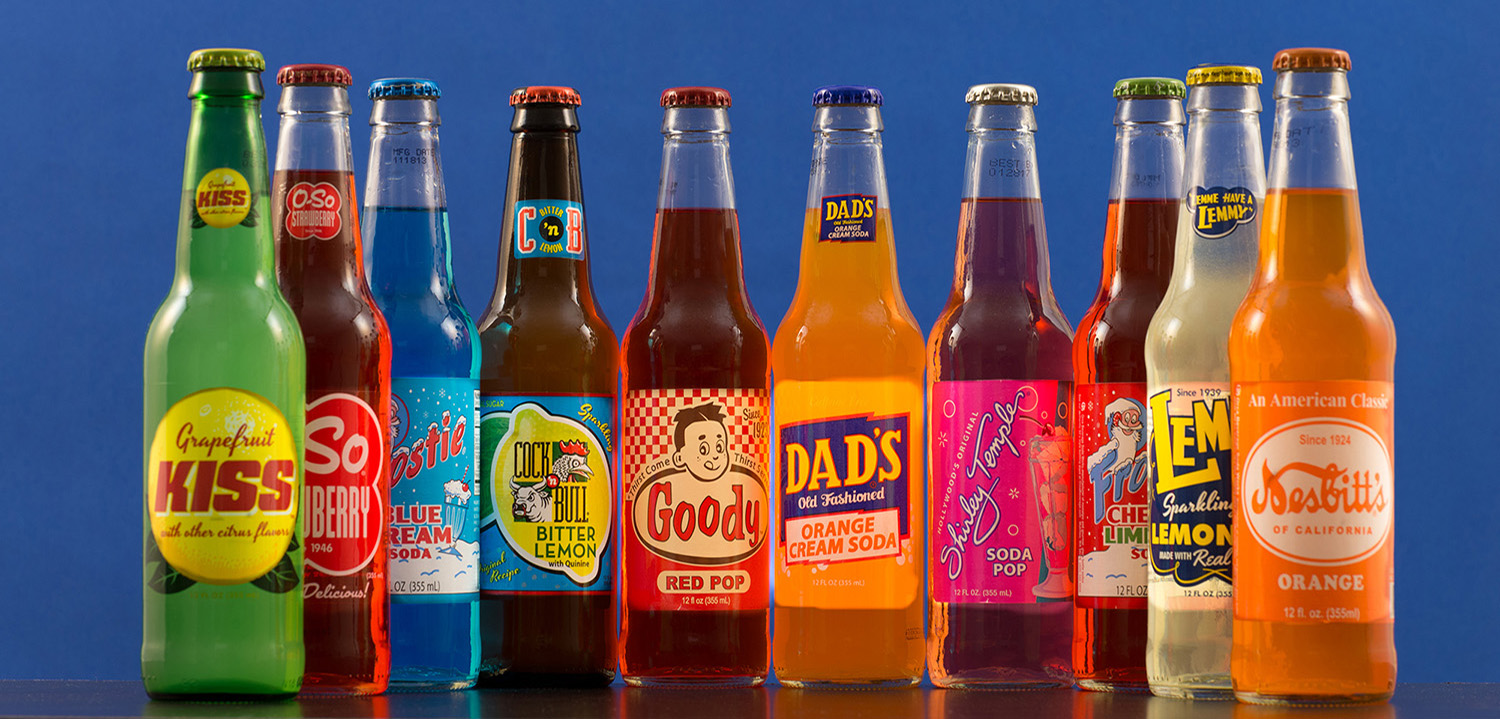Rec_Glass: (1225, 51, 1410, 709), (145, 43, 315, 701), (463, 65, 630, 696), (608, 67, 775, 691), (772, 62, 929, 687), (933, 55, 1083, 704), (261, 59, 401, 699), (359, 71, 494, 699), (1141, 62, 1256, 714), (1072, 68, 1189, 706)
